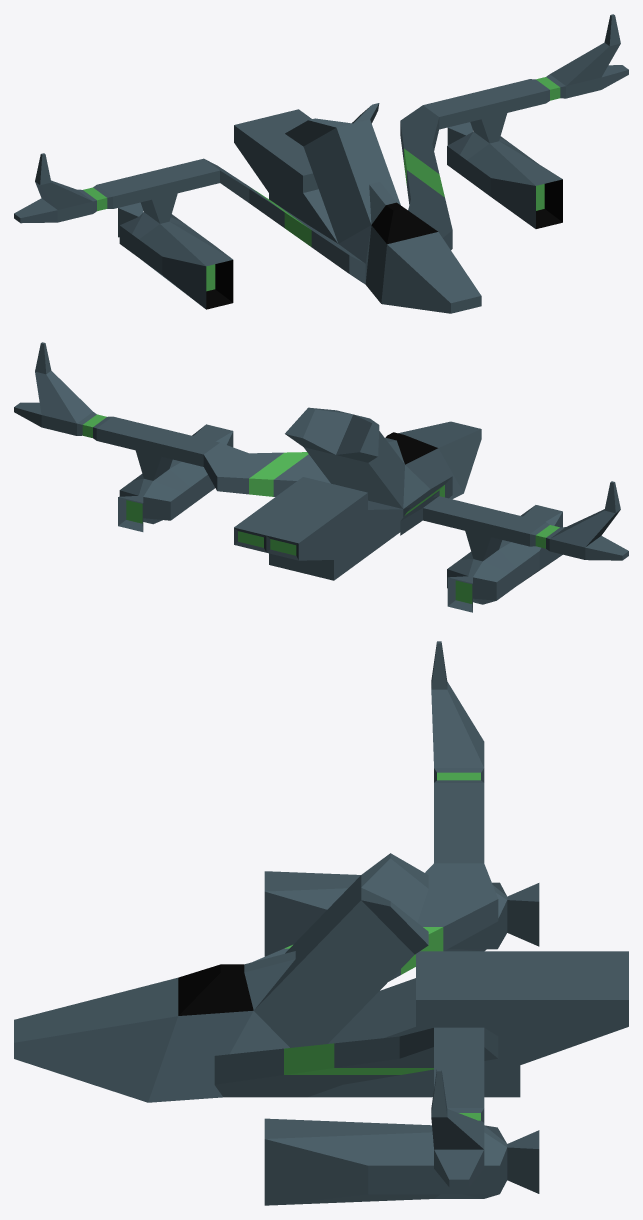
File: ___SpaceShipV1.glb
The picture shows the model from 3 angles, top to bottom: view 1: azimuth 30°, elevation 25°; view 2: azimuth 150°, elevation 25°; view 3: azimuth 270°, elevation 25°; orthographic projection. The views are drawn at different scales.
Visible parts, largest first — view 1: Cube; view 2: Cube; view 3: Cube.
Part boxes in pixels (x1,y1,x2,y2): Cube: (14, 14, 628, 313); Cube: (14, 342, 628, 612); Cube: (14, 641, 628, 1205).
Bounding box in the file's own units: 18.75 × 4.15 × 10.67.
Materials: 1 (1 with a texture image).
